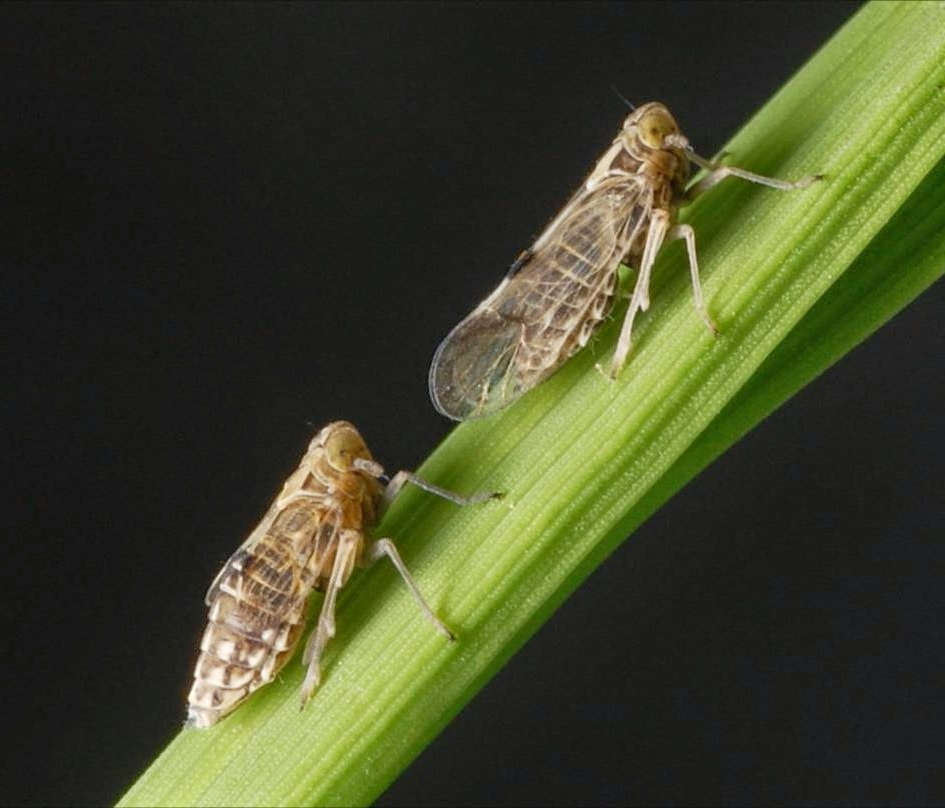Brown_hopper: (177, 402, 402, 746), (424, 102, 656, 432)
